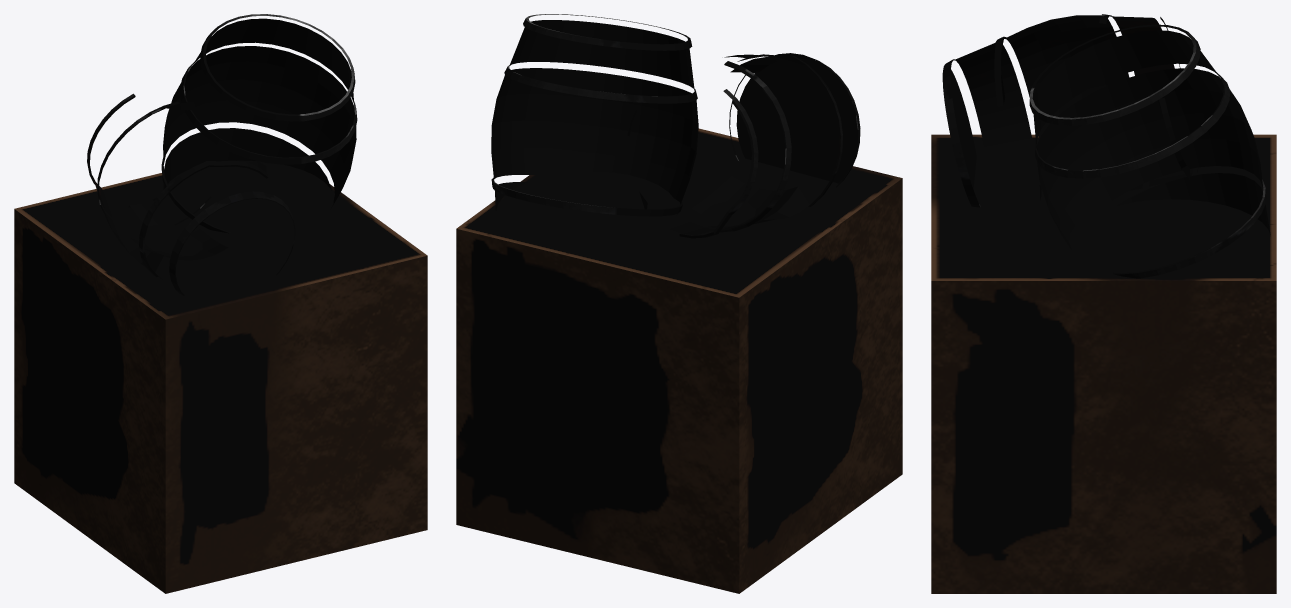
File: Obstacle_6.obj
The picture shows the model from 3 angles, left to right: view 1: azimuth 30°, elevation 25°; view 2: azimuth 150°, elevation 25°; view 3: azimuth 270°, elevation 25°; orthographic projection. The views are drawn at different scales.
Visible parts, largest first — view 1: Floor_basic.007_Cube.021; view 2: Floor_basic.007_Cube.021; view 3: Floor_basic.007_Cube.021.
Part boxes in pixels (<box>): Floor_basic.007_Cube.021: <box>14,14,427,593</box>; Floor_basic.007_Cube.021: <box>456,14,902,593</box>; Floor_basic.007_Cube.021: <box>931,14,1276,593</box>.
Size of the model in its own units: 1.04 by 1.63 by 1.
Materials: 1 (1 with a texture image).
